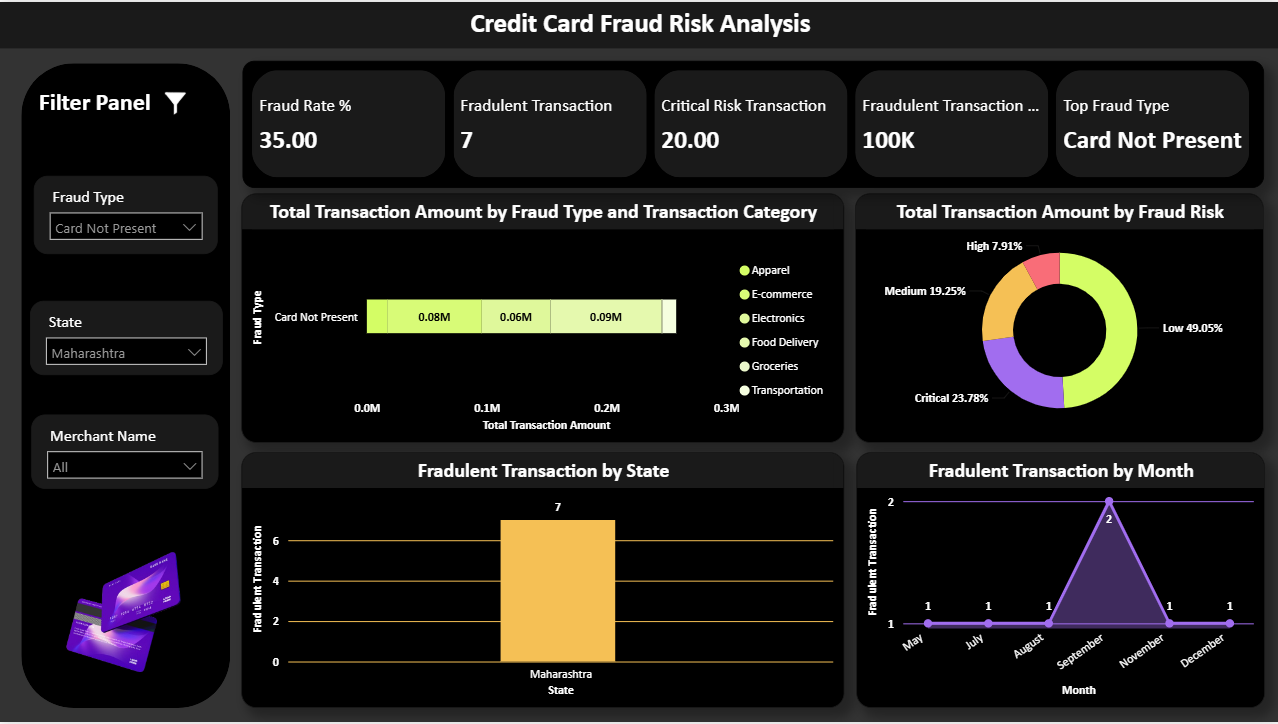

What the dashboard file says about the page in this screenshot:
{"tool":"powerbi","page":{"name":"Page 1","canvas":[1280,720],"ordinal":0},"visuals":[{"type":"textbox","box":[0,0,1280.6,46.3],"z":0},{"type":"shape","box":[20.9,61.2,209,644.8],"z":1000},{"type":"textbox","box":[34.3,80.6,141.8,46.3],"z":2000},{"type":"image","box":[144.8,80.6,61.2,43.3],"z":3000},{"type":"barChart","fields":{"Y":["Credit Card Fraud Risk Analysis.Total Transaction Amount"],"Category":["Credit Card Fraud Risk Analysis.Fraud Type"],"Series":["Credit Card Fraud Risk Analysis.Transaction Category"]},"box":[241.8,191,603,249.3],"z":4000},{"type":"donutChart","fields":{"Y":["Credit Card Fraud Risk Analysis.Total Transaction Amount"],"Category":["Credit Card Fraud Risk Analysis.Fraud Risk"]},"box":[855.2,191,409,249.3],"z":5000},{"type":"columnChart","fields":{"Category":["Credit Card Fraud Risk Analysis.State"],"Y":["Credit Card Fraud Risk Analysis.Fradulent Transaction"]},"box":[241.4,450,602.9,255.7],"z":6000},{"type":"lineChart","fields":{"Y":["Credit Card Fraud Risk Analysis.Fradulent Transaction"],"Category":["Credit Card Fraud Risk Analysis.Transaction Date.Variation.Date Hierarchy.Month"]},"box":[855.7,450,408.6,255.7],"z":7000},{"type":"slicer","fields":{"Values":["Credit Card Fraud Risk Analysis.Fraud Type"]},"box":[34.3,174.3,184.3,78.6],"z":8000},{"type":"slicer","fields":{"Values":["Credit Card Fraud Risk Analysis.State"]},"box":[30,298.6,192.9,74.3],"z":9000},{"type":"slicer","fields":{"Values":["Credit Card Fraud Risk Analysis.Merchant Name"]},"box":[31.4,412.9,187.1,74.3],"z":10000},{"type":"image","box":[0,530,191.4,162.9],"z":11000},{"type":"cardVisual","fields":{"Data":["Credit Card Fraud Risk Analysis.Fraud Rate %","Credit Card Fraud Risk Analysis.Fradulent Transaction","Credit Card Fraud Risk Analysis.Critical Risk Transaction","Credit Card Fraud Risk Analysis.Fraudulent Transaction Amount","Credit Card Fraud Risk Analysis.Top Fraud Type"]},"box":[242.9,58.6,1021.4,127.1],"z":12000}]}

Visuals, with their boxes in screenshot pixels (x1, y1, x2, y2), scaled from the page's 1280x720 canvas onto the 1278x724 screenshot:
textbox: left=0, top=0, right=1277, bottom=47
shape: left=21, top=62, right=230, bottom=710
textbox: left=34, top=81, right=176, bottom=128
image: left=145, top=81, right=206, bottom=125
barChart - Credit Card Fraud Risk Analysis.Total Transaction Amount x Credit Card Fraud Risk Analysis.Fraud Type: left=241, top=192, right=843, bottom=443
donutChart - Credit Card Fraud Risk Analysis.Total Transaction Amount x Credit Card Fraud Risk Analysis.Fraud Risk: left=854, top=192, right=1262, bottom=443
columnChart - Credit Card Fraud Risk Analysis.State x Credit Card Fraud Risk Analysis.Fradulent Transaction: left=241, top=452, right=843, bottom=710
lineChart - Credit Card Fraud Risk Analysis.Fradulent Transaction x Credit Card Fraud Risk Analysis.Transaction Date.Variation.Date Hierarchy.Month: left=854, top=452, right=1262, bottom=710
slicer - Credit Card Fraud Risk Analysis.Fraud Type: left=34, top=175, right=218, bottom=254
slicer - Credit Card Fraud Risk Analysis.State: left=30, top=300, right=223, bottom=375
slicer - Credit Card Fraud Risk Analysis.Merchant Name: left=31, top=415, right=218, bottom=490
image: left=0, top=533, right=191, bottom=697
cardVisual - Credit Card Fraud Risk Analysis.Fraud Rate % x Credit Card Fraud Risk Analysis.Fradulent Transaction: left=243, top=59, right=1262, bottom=187
